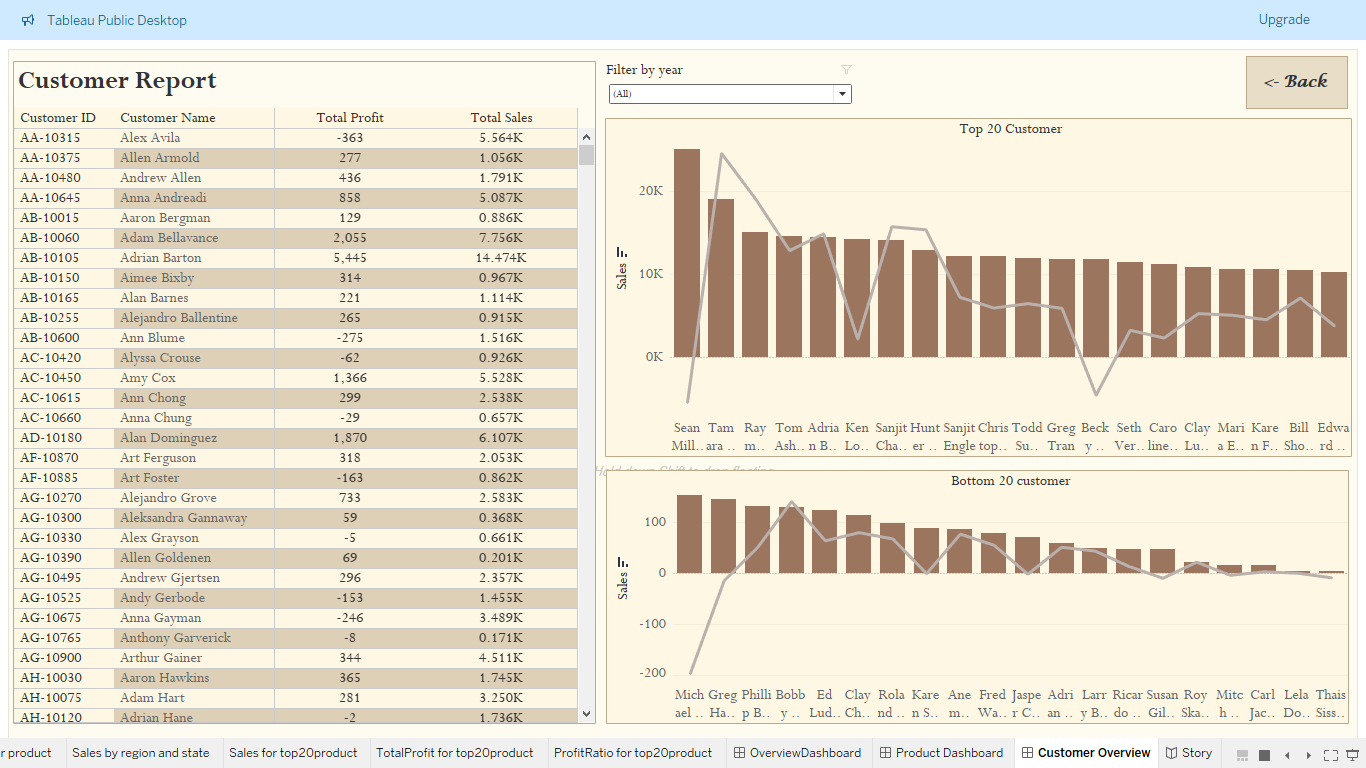

The page's visual inventory and layout, read from the dashboard file:
{"tool":"tableau","page":{"name":"Customer Overview","canvas":[1350,680],"ordinal":0},"visuals":[{"type":"dashboard-object","box":[1238,7,102,53]},{"type":"worksheet","title":"CustomerReport","mark":"Automatic","rows":["Customer ID","Customer Name"],"box":[5,12,583,663]},{"type":"filter","title":"CustomerReport","param":"[federated.1vwkvo118khmga183gjy00ts2byp].[yr:Order Date:ok]","box":[598,12,249,51]},{"type":"worksheet","title":"Top 20 customer","mark":"Automatic","rows":["Sales","Profit"],"box":[597,69,747,339]},{"type":"worksheet","title":"Buttom 20 customer","mark":"Automatic","rows":["Sales","Profit"],"box":[598,421,743,254]}]}

Visuals, with their boxes on the page's 1350x680 design canvas (x1, y1, x2, y2). These are canvas units, not pixel positions in the 1366x768 screenshot, which may show the page scaled, cropped or inside an application window:
dashboard-object: (1238, 7, 1340, 60)
"CustomerReport" worksheet: (5, 12, 588, 675)
"CustomerReport" filter: (598, 12, 847, 63)
"Top 20 customer" worksheet: (597, 69, 1344, 408)
"Buttom 20 customer" worksheet: (598, 421, 1341, 675)
